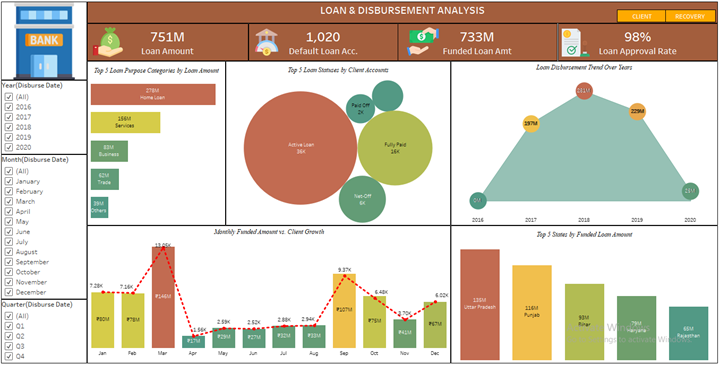

Layout of this report page (visuals, bound fields, positions):
{"tool":"tableau","page":{"name":"LOAN_DASHBOARD","canvas":[1000,1000],"units":"permille","ordinal":1},"visuals":[{"type":"image","param":"Image/Bank.png","box":[7,14.5,118.1,90.6]},{"type":"text","box":[126,16.3,866.1,50.7]},{"type":"dashboard-object","box":[855.1,32.6,69.8,34.4]},{"type":"dashboard-object","box":[921.4,32.6,69.8,34.4]},{"type":"worksheet","title":"KPI-L-LoanAmt","mark":"Automatic","box":[125.1,72.4,221.9,101.2]},{"type":"worksheet","title":"KPI-L-DefaultLoan","mark":"Automatic","box":[347.1,72.4,205.9,101.2]},{"type":"worksheet","title":"KPI-L-FundedLoan","mark":"Automatic","box":[552.9,72.4,220,101.2]},{"type":"worksheet","title":"KPI-L-LoanApproval%","mark":"Automatic","box":[772.9,72.4,220.1,101.2]},{"type":"image","param":"Image/DefaultLoan.png","box":[349.8,74.3,44.2,92.4]},{"type":"image","param":"Image/FundedLoan.png","box":[563.6,74.3,47.7,88.8]},{"type":"image","param":"Image/Loan.png","box":[129.9,76.1,46.8,88.8]},{"type":"image","param":"Image/ApprovedLoan.png","box":[776.5,77.9,42.4,88.8]},{"type":"filter","title":"L-YearlyLoanDisbursement","param":"[federated.1ke82wi020wc2q1g72ym4128yqcx].[yr:Disbursement Date:ok]","box":[7,105.1,118.1,253.6]},{"type":"worksheet","title":"L-LoanAmtLoanPurpose","mark":"Automatic","rows":["Loan Purpose Category"],"cols":["Loan Amount"],"box":[125.1,173.5,229.3,442.1]},{"type":"worksheet","title":"L-LoanStatusAccountID","mark":"Circle","box":[354.5,173.5,270.8,442.1]},{"type":"worksheet","title":"L-YearlyLoanDisbursement","mark":"Area","rows":["Funded Amount","Funded Amount"],"cols":["Disbursement Date"],"box":[625.3,173.5,367.6,442.1]},{"type":"filter","title":"L-YearlyLoanDisbursement","param":"[federated.1ke82wi020wc2q1g72ym4128yqcx].[mn:Disbursement Date:ok]","box":[7,358.7,118.1,407.6]},{"type":"worksheet","title":"L-MonthlyClinets&FundedAmt","mark":"Line","rows":["Funded Amount","Client id"],"cols":["Calculation_1271422527716278277"],"box":[125.1,615.6,500.2,369.9]},{"type":"worksheet","title":"L-FundedAmtState","mark":"Automatic","rows":["Funded Amount"],"cols":["State Name"],"box":[625.4,615.6,367.6,369.9]},{"type":"filter","title":"L-YearlyLoanDisbursement","param":"[federated.1ke82wi020wc2q1g72ym4128yqcx].[qr:Disbursement Date:ok]","box":[7,766.3,118.1,219.2]}]}

Visuals, with their boxes on the dashboard's canvas, which has no fixed pixel size, in thousandths of its width and height (x1, y1, x2, y2). These are canvas units, not pixel positions in the 720x365 screenshot, which may show the page scaled, cropped or inside an application window:
image: [7, 14, 125, 105]
text: [126, 16, 992, 67]
dashboard-object: [855, 33, 925, 67]
dashboard-object: [921, 33, 991, 67]
"KPI-L-LoanAmt" worksheet: [125, 72, 347, 174]
"KPI-L-DefaultLoan" worksheet: [347, 72, 553, 174]
"KPI-L-FundedLoan" worksheet: [553, 72, 773, 174]
"KPI-L-LoanApproval%" worksheet: [773, 72, 993, 174]
image: [350, 74, 394, 167]
image: [564, 74, 611, 163]
image: [130, 76, 177, 165]
image: [776, 78, 819, 167]
"L-YearlyLoanDisbursement" filter: [7, 105, 125, 359]
"L-LoanAmtLoanPurpose" worksheet: [125, 174, 354, 616]
"L-LoanStatusAccountID" worksheet (Circle marks): [354, 174, 625, 616]
"L-YearlyLoanDisbursement" worksheet (Area marks): [625, 174, 993, 616]
"L-YearlyLoanDisbursement" filter: [7, 359, 125, 766]
"L-MonthlyClinets&FundedAmt" worksheet (Line marks): [125, 616, 625, 986]
"L-FundedAmtState" worksheet: [625, 616, 993, 986]
"L-YearlyLoanDisbursement" filter: [7, 766, 125, 986]
